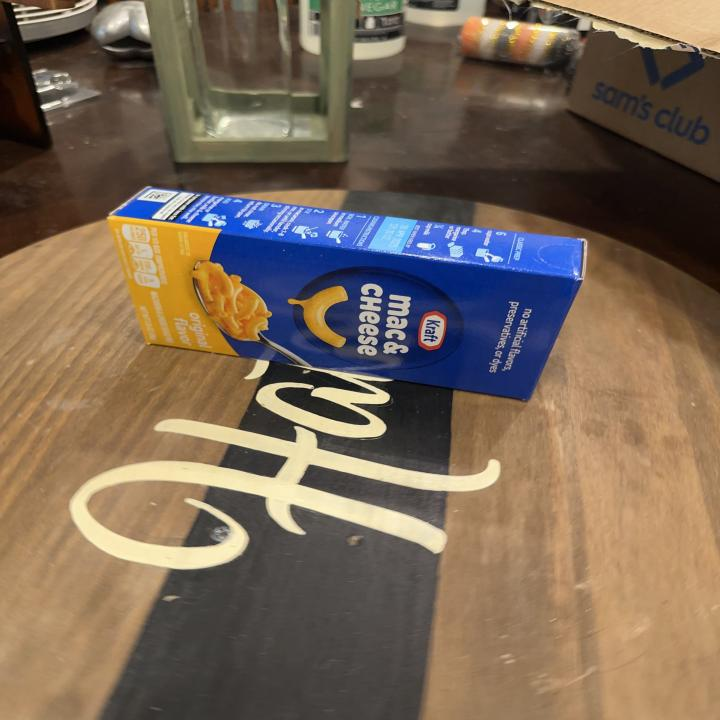Mac-And-Cheese: (105, 181, 590, 404)
